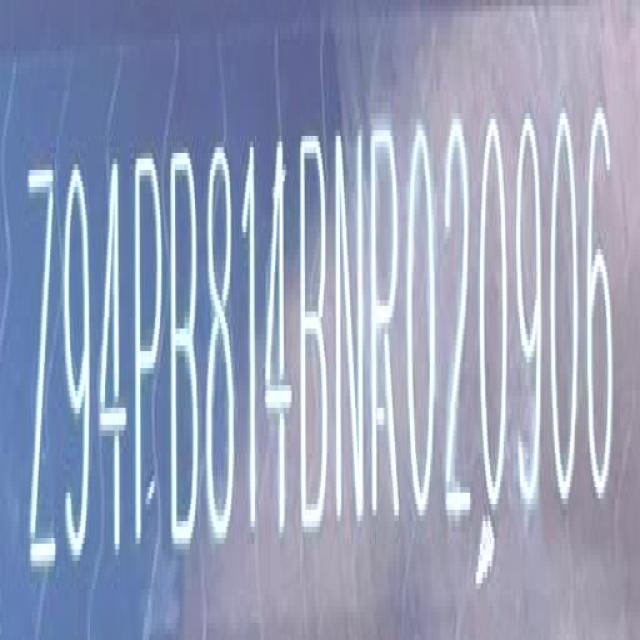0: (406, 117, 439, 533), (547, 112, 580, 513), (477, 118, 509, 522)
1: (242, 145, 260, 553)
2: (443, 116, 476, 526)
4: (98, 158, 130, 576), (263, 137, 295, 545)
6: (587, 108, 619, 509)
8: (206, 145, 237, 546)
9: (61, 162, 92, 580), (515, 118, 545, 522)
B: (169, 146, 204, 560), (300, 128, 333, 538)
N: (335, 123, 364, 532)
P: (132, 152, 164, 570)
R: (371, 116, 405, 528)
Z: (25, 154, 58, 591)
